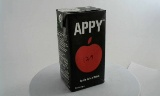appy: (52, 5, 100, 92)
